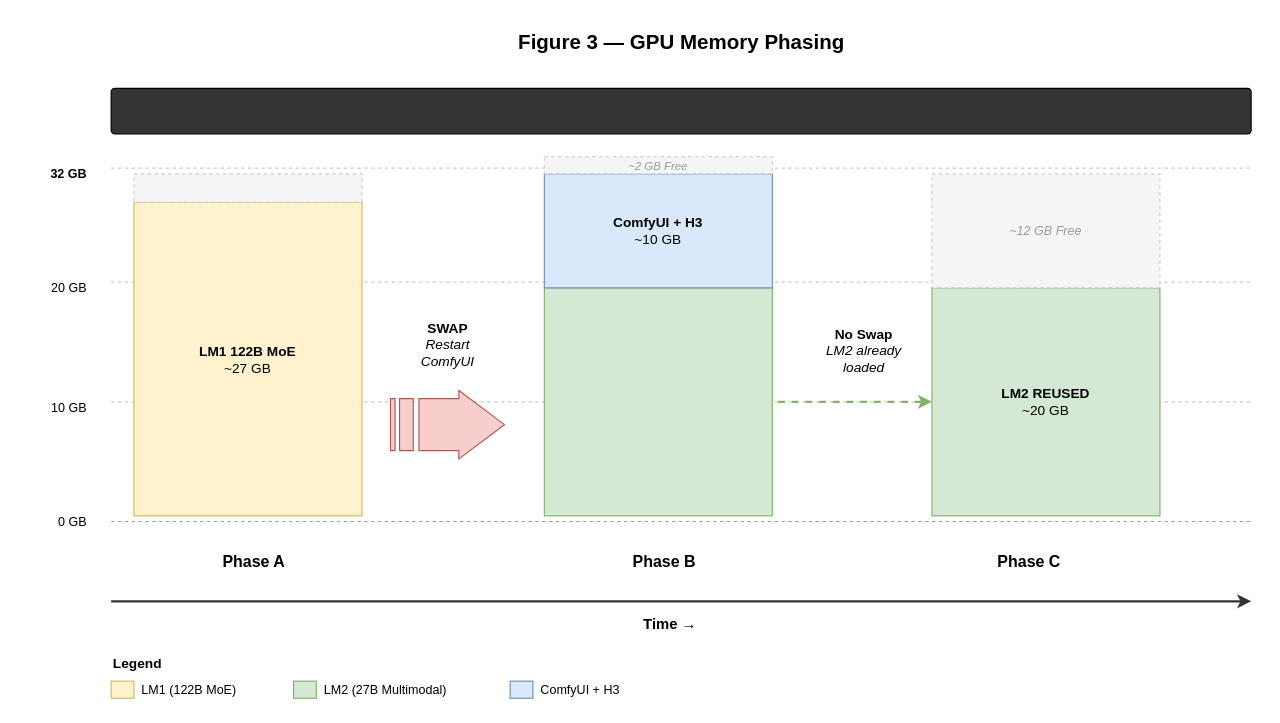
The diagram is 1280 pixels wide and 723 high, and some of its shapes have lost their labels. The centre of each missing label's shape, as x and y in pixels:
"32 GB Total VRAM" goes at point (680, 110).
"LM2 27B ~20 GB" goes at point (657, 401).
"~5 GB Free" goes at point (247, 187).
